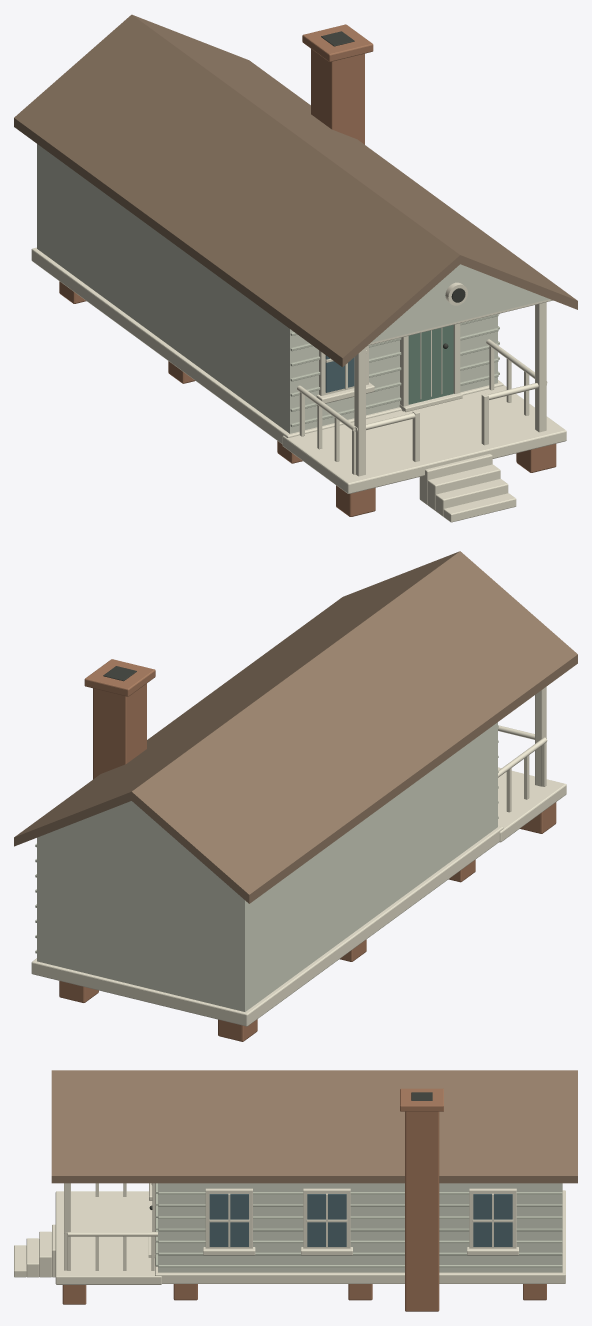
File: small_shotgun.glb
The picture shows the model from 3 angles, top to bottom: view 1: azimuth 30°, elevation 25°; view 2: azimuth 150°, elevation 25°; view 3: azimuth 270°, elevation 25°; orthographic projection. The views are drawn at different scales.
Visible parts, largest first — view 1: Shotgun continuous roof over deep porch, Shotgun long narrow raised body, Shotgun narrow deep porch floor, Shotgun porch front gable pediment, Shotgun raised floor sill, Shotgun attached side brick chimney masonry shaft, Shotgun front entry closed door slab, Shotgun porch full-height post.001, Shotgun attached side brick chimney projecting chimney cap, Shotgun porch full-height post, Shotgun central porch access step.002, Shotgun central porch access step.001 (+5 smaller); view 2: Shotgun continuous roof over deep porch, Shotgun long narrow raised body, Shotgun raised floor sill, Shotgun attached side brick chimney masonry shaft, Shotgun narrow deep porch floor, Shotgun attached side brick chimney projecting chimney cap, Shotgun porch full-height post, Shotgun raised brick pier.002; view 3: Shotgun continuous roof over deep porch, Shotgun long narrow raised body, Shotgun narrow deep porch floor, Shotgun attached side brick chimney masonry shaft, Shotgun raised floor sill, Shotgun long side sash window glazing, Shotgun long side sash window glazing.001, Shotgun long side sash window glazing.002, Shotgun long side siding course, Shotgun long side siding course.001, Shotgun long side siding course.003, Shotgun long side siding course.002 (+19 smaller).
Boxes of the visible parts, <box> form: Shotgun continuous roof over deep porch: <box>14,14,577,367</box>; Shotgun long narrow raised body: <box>37,144,497,433</box>; Shotgun narrow deep porch floor: <box>282,385,566,493</box>; Shotgun porch front gable pediment: <box>371,264,549,342</box>; Shotgun raised floor sill: <box>31,247,503,443</box>; Shotgun attached side brick chimney masonry shaft: <box>311,49,364,144</box>; Shotgun front entry closed door slab: <box>408,325,453,404</box>; Shotgun porch full-height post.001: <box>535,302,546,432</box>; Shotgun attached side brick chimney projecting chimney cap: <box>302,24,373,61</box>; Shotgun porch full-height post: <box>354,347,365,476</box>; Shotgun central porch access step.002: <box>427,464,500,510</box>; Shotgun central porch access step.001: <box>435,479,508,516</box>; Shotgun continuous roof over deep porch: <box>14,551,577,903</box>; Shotgun long narrow raised body: <box>37,722,497,1011</box>; Shotgun raised floor sill: <box>31,826,503,1026</box>; Shotgun attached side brick chimney masonry shaft: <box>93,683,146,779</box>; Shotgun narrow deep porch floor: <box>498,767,566,842</box>; Shotgun attached side brick chimney projecting chimney cap: <box>84,659,155,696</box>; Shotgun porch full-height post: <box>535,686,546,786</box>; Shotgun raised brick pier.002: <box>218,1019,257,1041</box>; Shotgun continuous roof over deep porch: <box>51,1070,577,1183</box>; Shotgun long narrow raised body: <box>158,1183,562,1272</box>; Shotgun narrow deep porch floor: <box>55,1191,161,1284</box>; Shotgun attached side brick chimney masonry shaft: <box>405,1111,439,1311</box>; Shotgun raised floor sill: <box>155,1190,565,1283</box>; Shotgun long side sash window glazing: <box>209,1194,248,1246</box>; Shotgun long side sash window glazing.001: <box>307,1194,346,1246</box>; Shotgun long side sash window glazing.002: <box>473,1194,512,1246</box>; Shotgun long side siding course: <box>158,1265,562,1267</box>; Shotgun long side siding course.001: <box>158,1252,562,1255</box>; Shotgun long side siding course.003: <box>158,1228,562,1231</box>; Shotgun long side siding course.002: <box>158,1240,562,1243</box>.
Bounding box in the file's own units: 4.55 × 4.6 × 11.15.
